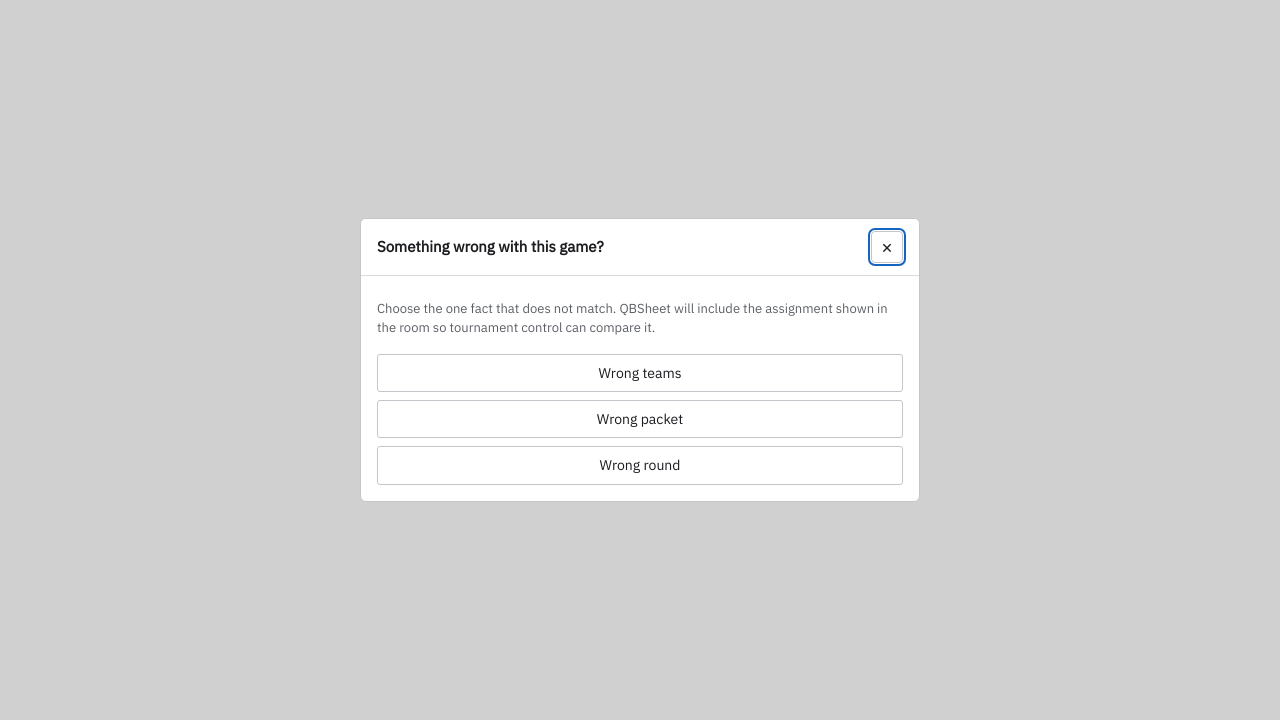
Test: the wrong-assignment report › keeps failure truthful and does not claim the request was delivered
This screenshot has width=1280, height=720.
Click the button "Wrong teams" at (640, 373), box [377,354,903,392]
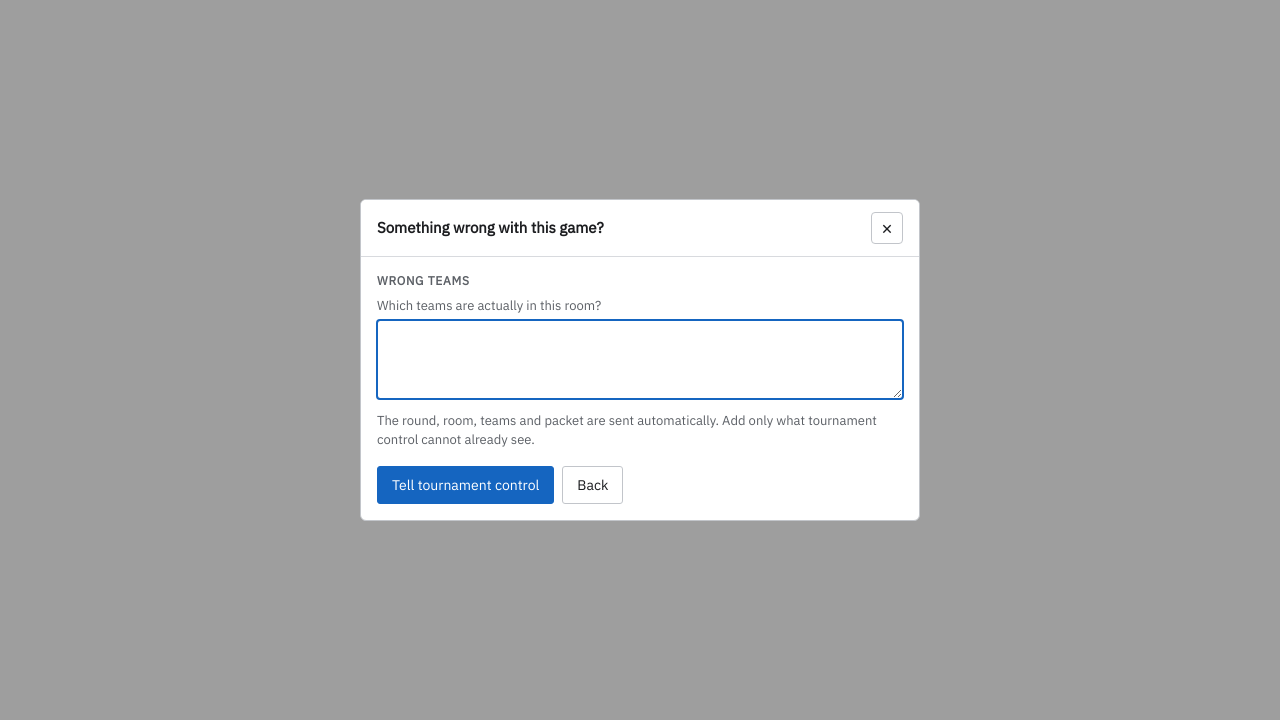
Click the button "Tell tournament control" at (466, 485), box [377,466,554,504]
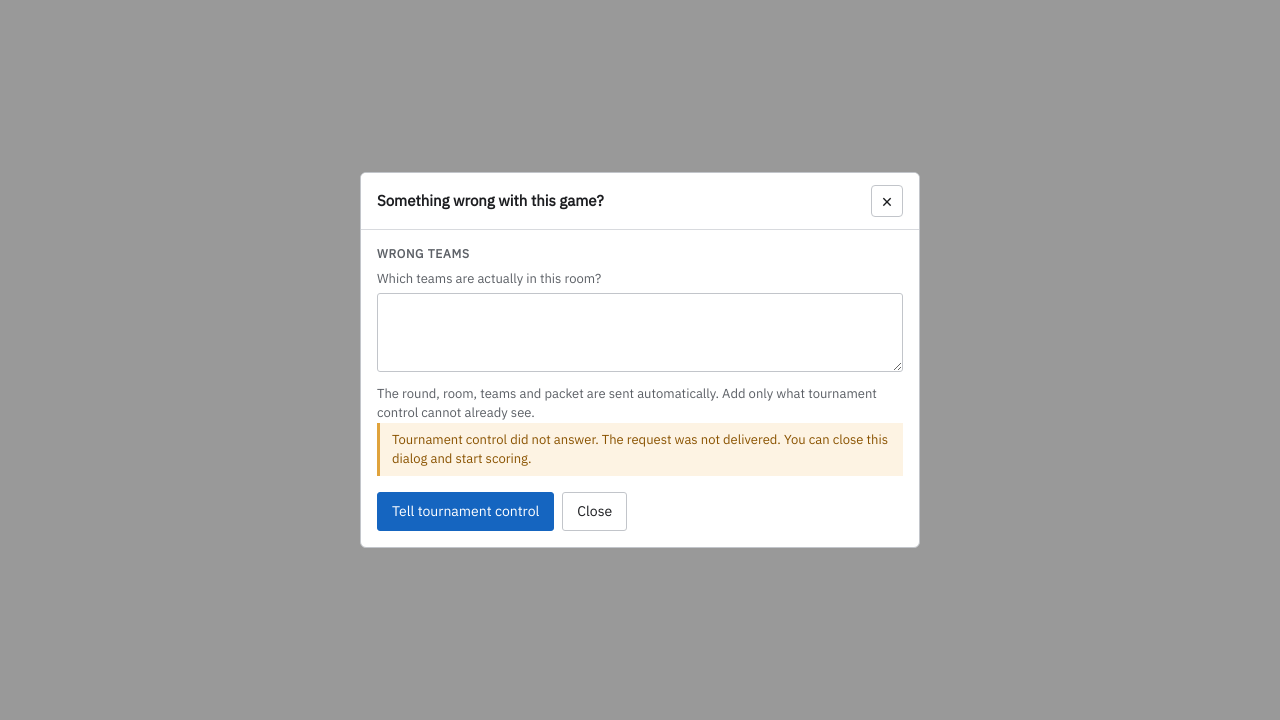
Check: the text "start scoring" is shown, box [392,431,888,466]
